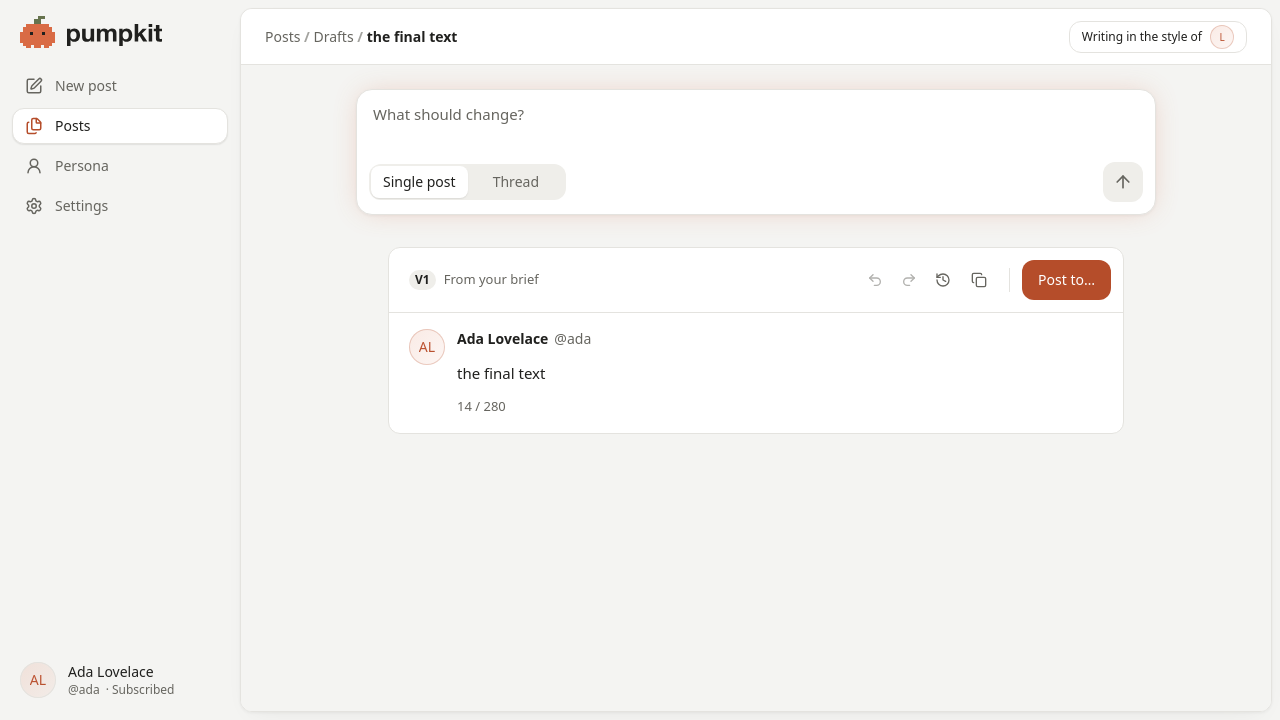
Post page › Copy › says to select the text and copy it when the browser refuses
The width and height of the screenshot is (1280, 720).
Click the button named "Copy post".
click(979, 280)  # box [961,262,997,298]
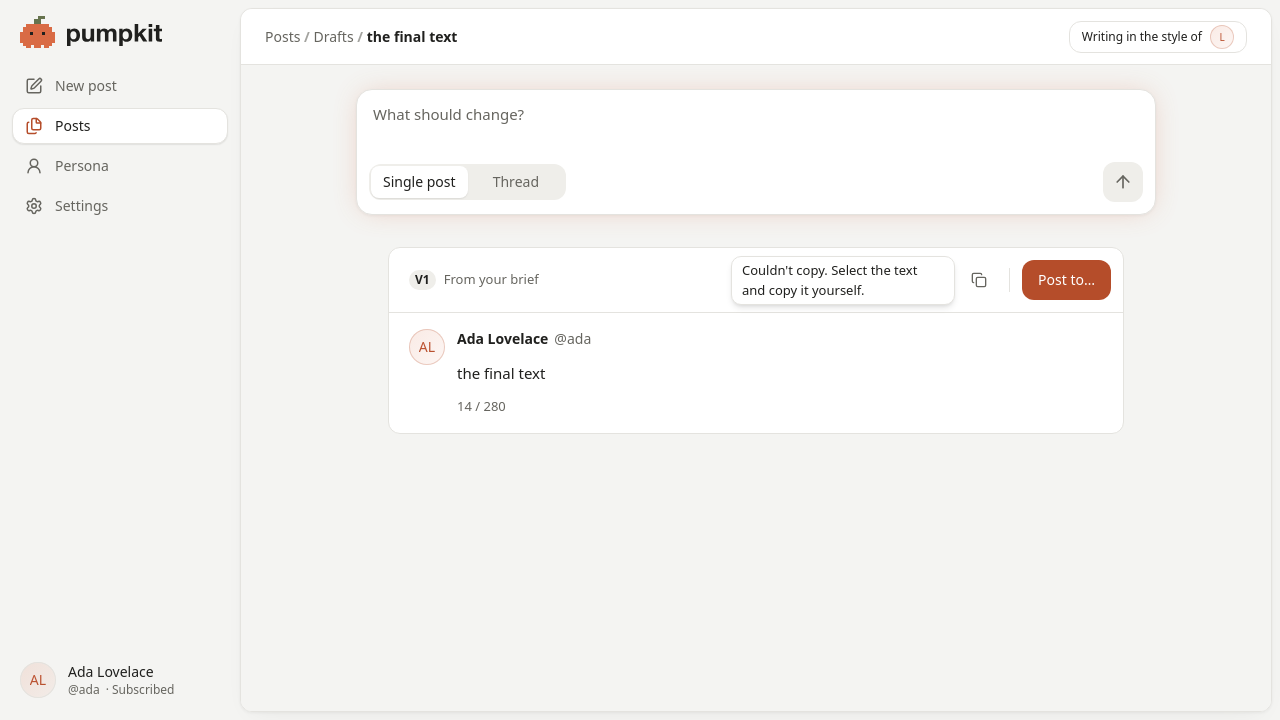
Now the tooltip reads "Couldn't copy. Select the text and copy it yourself.", box [742,261,917,298]
